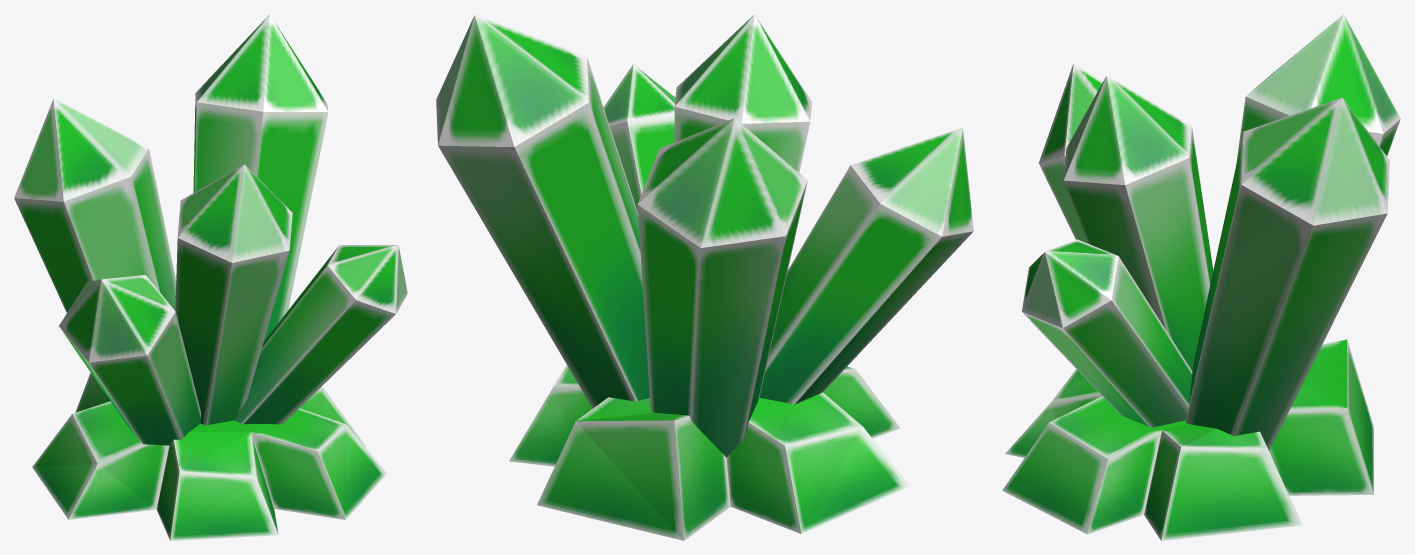
The model's file is item_013.fbx.
The picture shows the model from 3 angles, left to right: view 1: azimuth 30°, elevation 25°; view 2: azimuth 150°, elevation 25°; view 3: azimuth 270°, elevation 25°; orthographic projection. The views are drawn at different scales.
Parts seen in each view (by area): view 1: item013; view 2: item013; view 3: item013.
Part boxes in pixels (x1,y1,x2,y2): item013: (14, 14, 407, 540); item013: (436, 14, 973, 540); item013: (1002, 14, 1400, 540).
Bounding box in the file's own units: 0.2797 × 0.2953 × 0.246.
